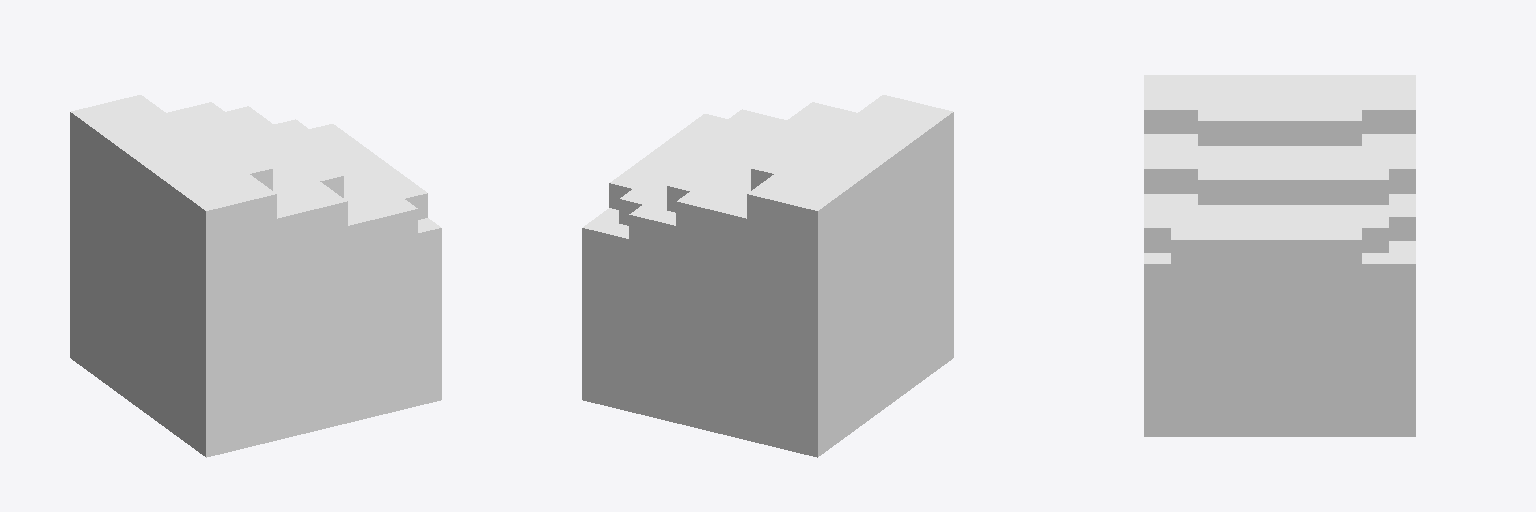
File: Lehm_Rand-02.obj
3 renders of one model, left to right at view 1: azimuth 30°, elevation 25°; view 2: azimuth 150°, elevation 25°; view 3: azimuth 270°, elevation 25°, orthographic.
Visible parts, largest first — view 1: object 1; view 2: object 1; view 3: object 1.
Part boxes in pixels (x1,y1,x2,y2): object 1: (70,95,441,457); object 1: (582,95,953,457); object 1: (1144,75,1415,436).
Size of the model in its own units: 1 by 1 by 1.